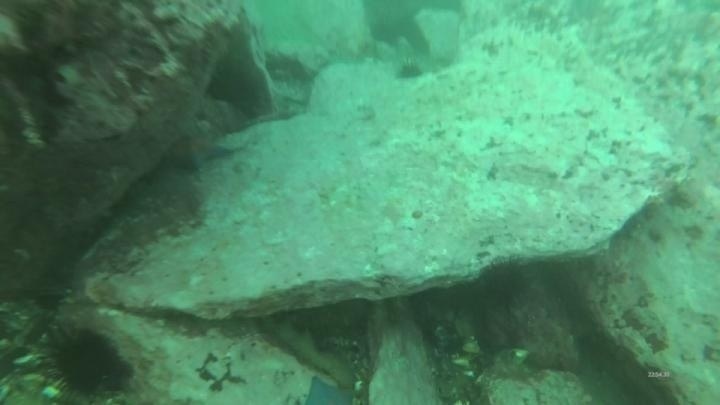echinus: (37, 324, 133, 401), (206, 58, 266, 115), (476, 257, 532, 310), (367, 18, 403, 49), (393, 59, 426, 85)
holothurian: (265, 318, 361, 388), (430, 310, 490, 405)
starfish: (163, 129, 236, 175), (298, 373, 360, 404)
